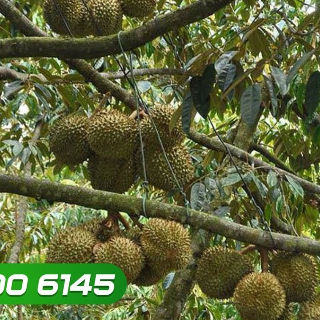sau_rieng: (193, 243, 258, 302), (139, 216, 195, 273), (86, 107, 137, 156)
